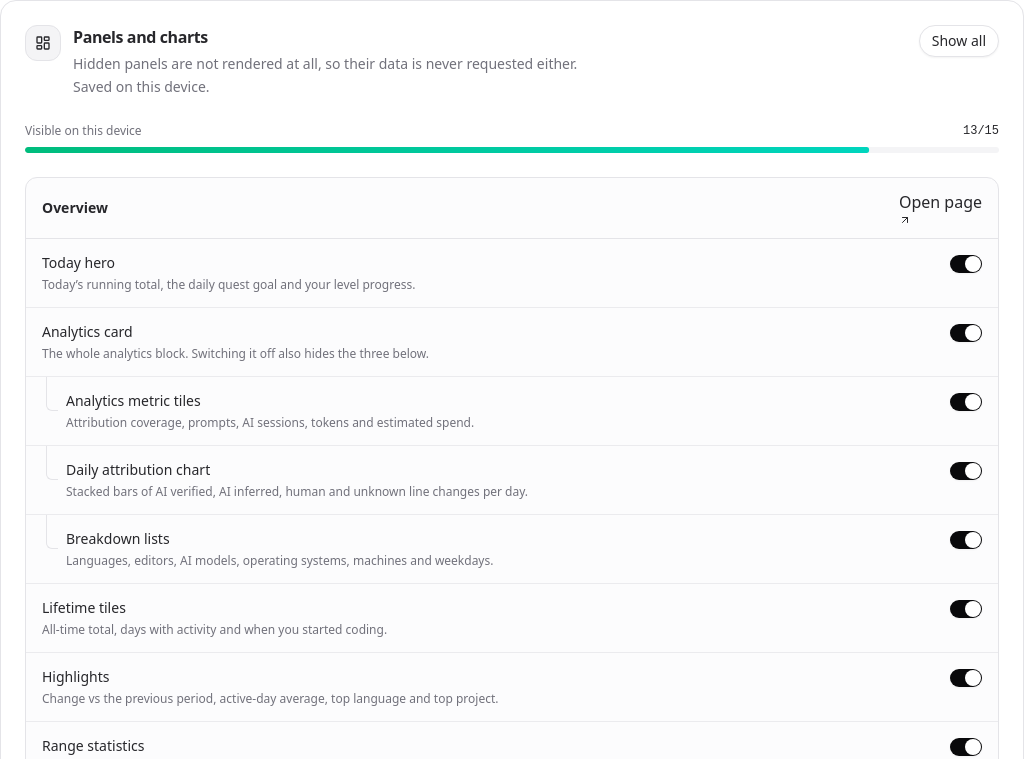
Test case: DashboardPanelsPanel › restores everything and clears the cookie when Show all is used
Click the button "Show all": (959, 41) x1=919 y1=25 x2=999 y2=57
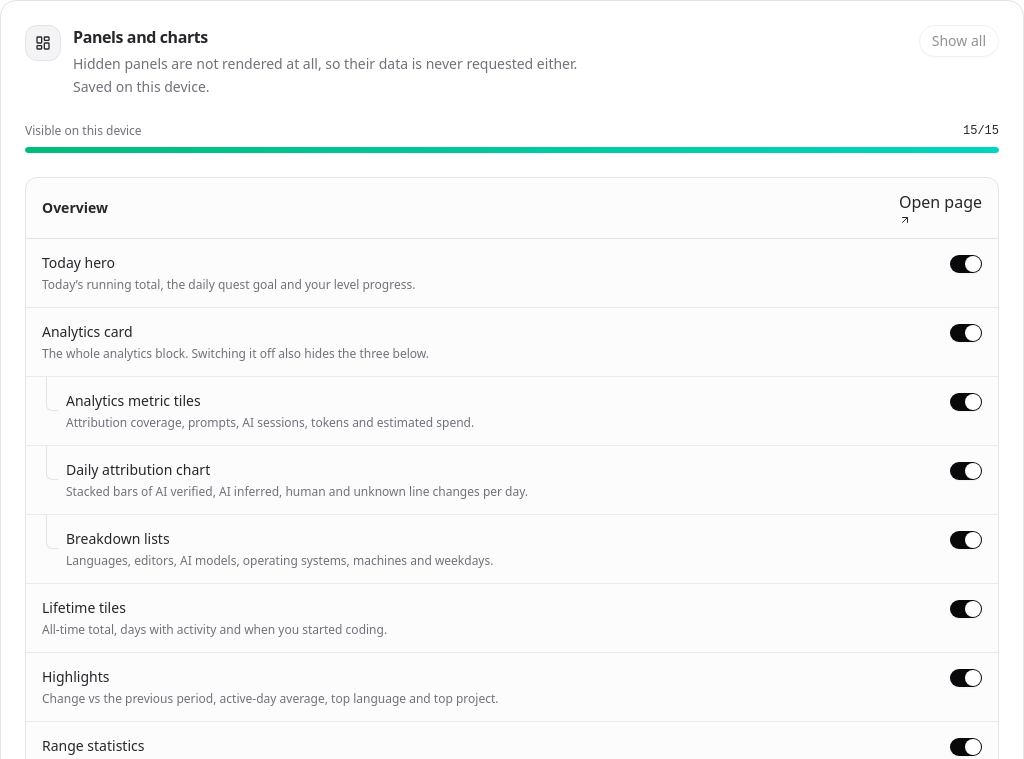
Check: the button "Show all" is disabled, box x1=919 y1=25 x2=999 y2=57
